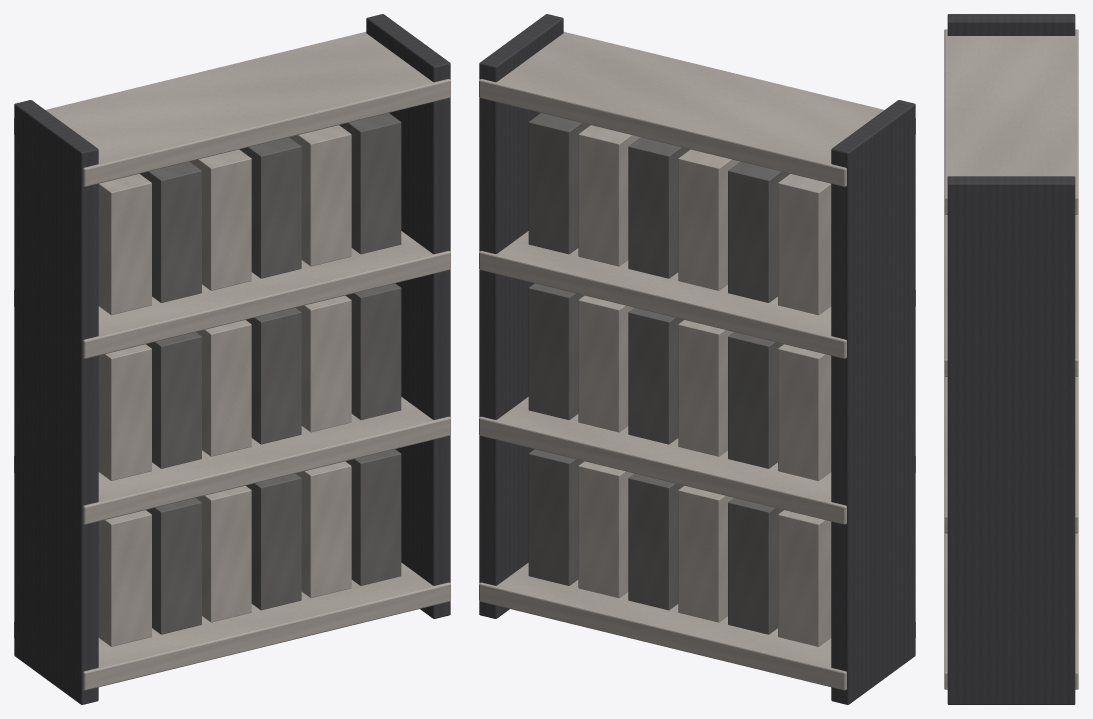
File: file_shelf.glb
3 views of the same model, side by side, from view 1: azimuth 30°, elevation 25°; view 2: azimuth 150°, elevation 25°; view 3: azimuth 270°, elevation 25° (orthographic). The views are drawn at different scales.
Parts seen in each view (by area): view 1: side.002, shelf.010, side.003, shelf.009, shelf.007, shelf.008, binder.012, binder, binder.006, binder.016, binder.017, binder.015 (+12 smaller); view 2: side.002, shelf.010, side.003, shelf.009, shelf.007, shelf.008, binder.012, binder, binder.006, binder.016, binder.017, binder.015 (+12 smaller); view 3: side.003, shelf.010, side.002, shelf.009, shelf.008, shelf.007.
Part boxes in pixels (box(x1,y1,x2,y2)): side.002: box(14, 100, 98, 704); shelf.010: box(14, 32, 450, 186); side.003: box(366, 14, 450, 618); shelf.009: box(14, 231, 450, 358); shelf.007: box(14, 562, 450, 690); shelf.008: box(14, 397, 450, 524); binder.012: box(98, 174, 151, 315); binder: box(98, 510, 151, 646); binder.006: box(98, 344, 151, 480); binder.016: box(289, 125, 351, 266); binder.017: box(339, 113, 401, 254); binder.015: box(239, 137, 301, 278); side.002: box(831, 100, 915, 704); shelf.010: box(479, 32, 915, 186); side.003: box(479, 14, 563, 618); shelf.009: box(479, 231, 915, 358); shelf.007: box(479, 562, 915, 690); shelf.008: box(479, 397, 915, 524); binder.012: box(778, 174, 831, 315); binder: box(778, 510, 831, 646); binder.006: box(778, 344, 831, 480); binder.016: box(578, 125, 640, 266); binder.017: box(528, 113, 590, 254); binder.015: box(628, 137, 690, 278); side.003: box(947, 176, 1075, 704); shelf.010: box(944, 29, 1078, 214); side.002: box(947, 14, 1075, 35); shelf.009: box(944, 214, 1078, 376); shelf.008: box(944, 376, 1078, 533); shelf.007: box(944, 532, 1078, 689).
Size of the model in its own units: 1.26 by 1.8 by 0.42.
Materials: 3 (3 with a texture image).
